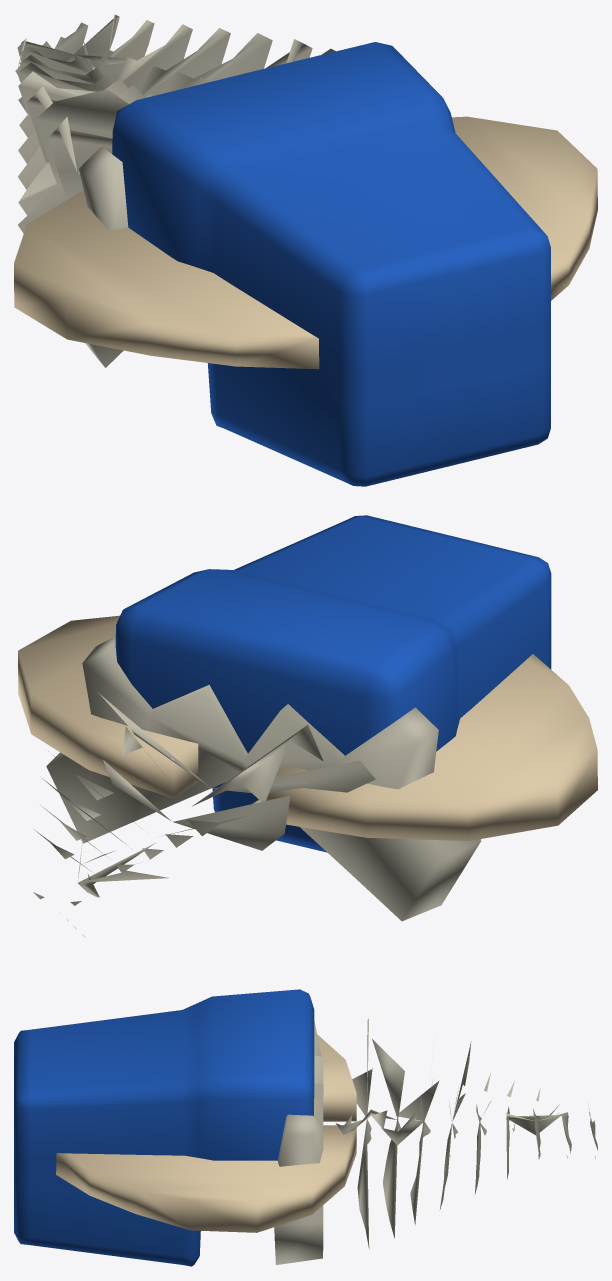
File: ship_9.gltf
3 views of the same model, one above another, from view 1: azimuth 30°, elevation 25°; view 2: azimuth 150°, elevation 25°; view 3: azimuth 270°, elevation 25° (orthographic). The views are drawn at different scales.
Parts seen in each view (by area): view 1: gtlf; view 2: gtlf; view 3: gtlf.
Boxes of the visible parts, box(x1,y1,x2,y2) form: gtlf: box(14, 14, 597, 486); gtlf: box(18, 515, 597, 936); gtlf: box(14, 989, 597, 1266).
Bounding box in the file's own units: 1.8 × 0.8756 × 2.33.
